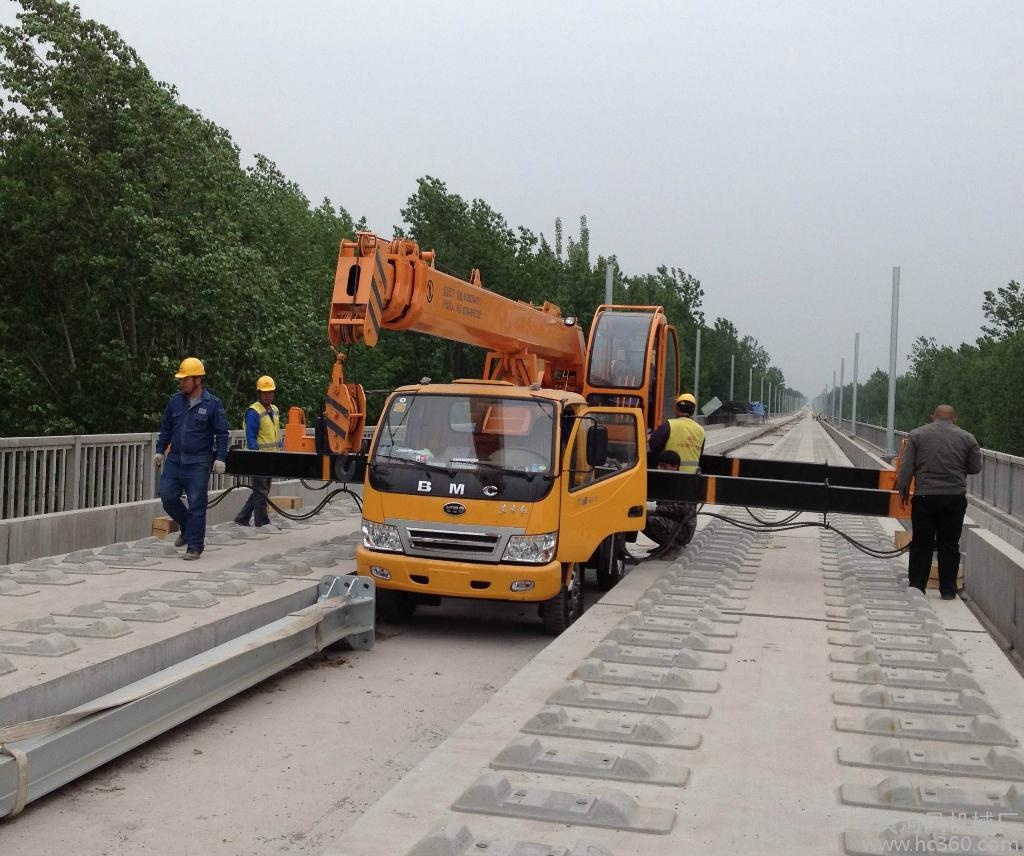none: (925, 401, 959, 431), (654, 448, 681, 475)
yellow: (174, 356, 206, 395), (253, 371, 276, 406), (671, 390, 693, 417)
